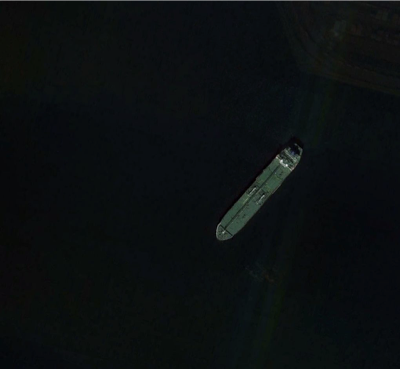boat: (215, 141, 307, 243)
